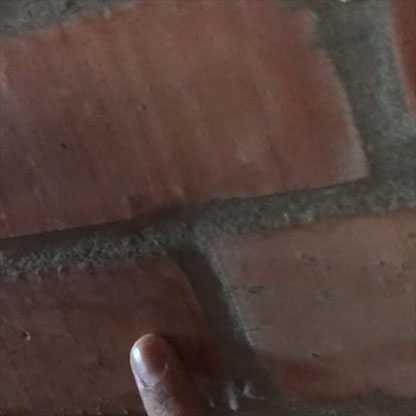fingertip: (122, 322, 181, 399)
